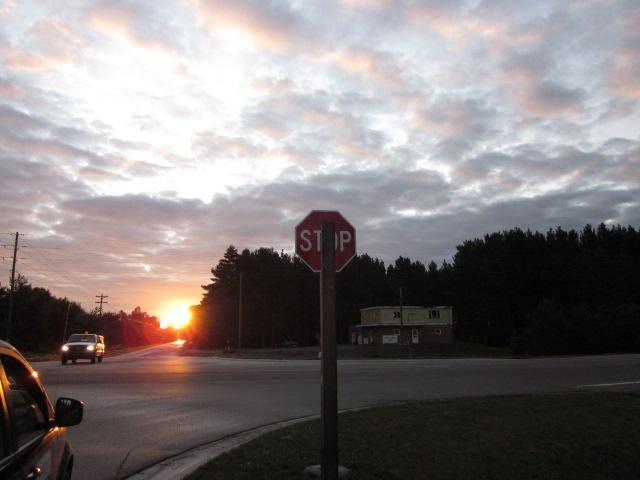stop: (291, 205, 359, 280)
